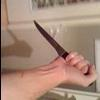melee: (32, 20, 94, 87)
